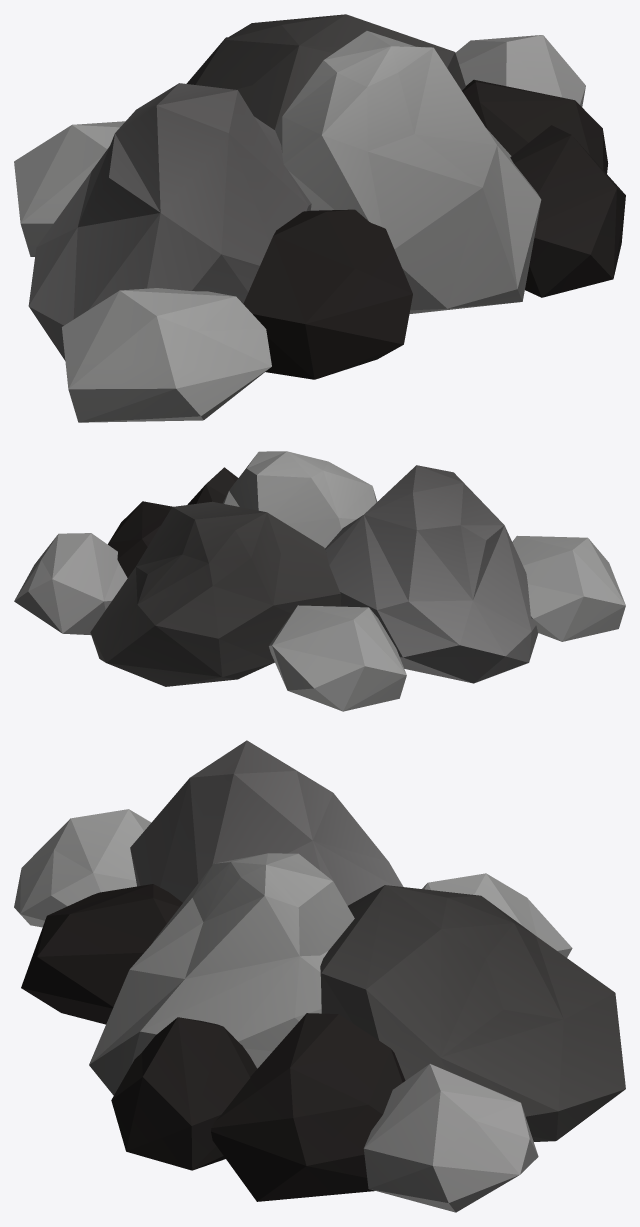
File: SM_Gen_Env_Bush_01.glb
3 renders of one model, top to bottom at view 1: azimuth 30°, elevation 25°; view 2: azimuth 150°, elevation 25°; view 3: azimuth 270°, elevation 25°, orthographic. The views are drawn at different scales.
Visible parts, largest first — view 1: SM_Gen_Env_Bush_01; view 2: SM_Gen_Env_Bush_01; view 3: SM_Gen_Env_Bush_01.
Boxes of the visible parts, box(x1,y1,x2,y2) form: SM_Gen_Env_Bush_01: box(14, 14, 625, 422); SM_Gen_Env_Bush_01: box(14, 451, 625, 711); SM_Gen_Env_Bush_01: box(14, 740, 625, 1212).
Size of the model in its own units: 3.71 by 1.4 by 2.9.
1 material, 1 textured.
